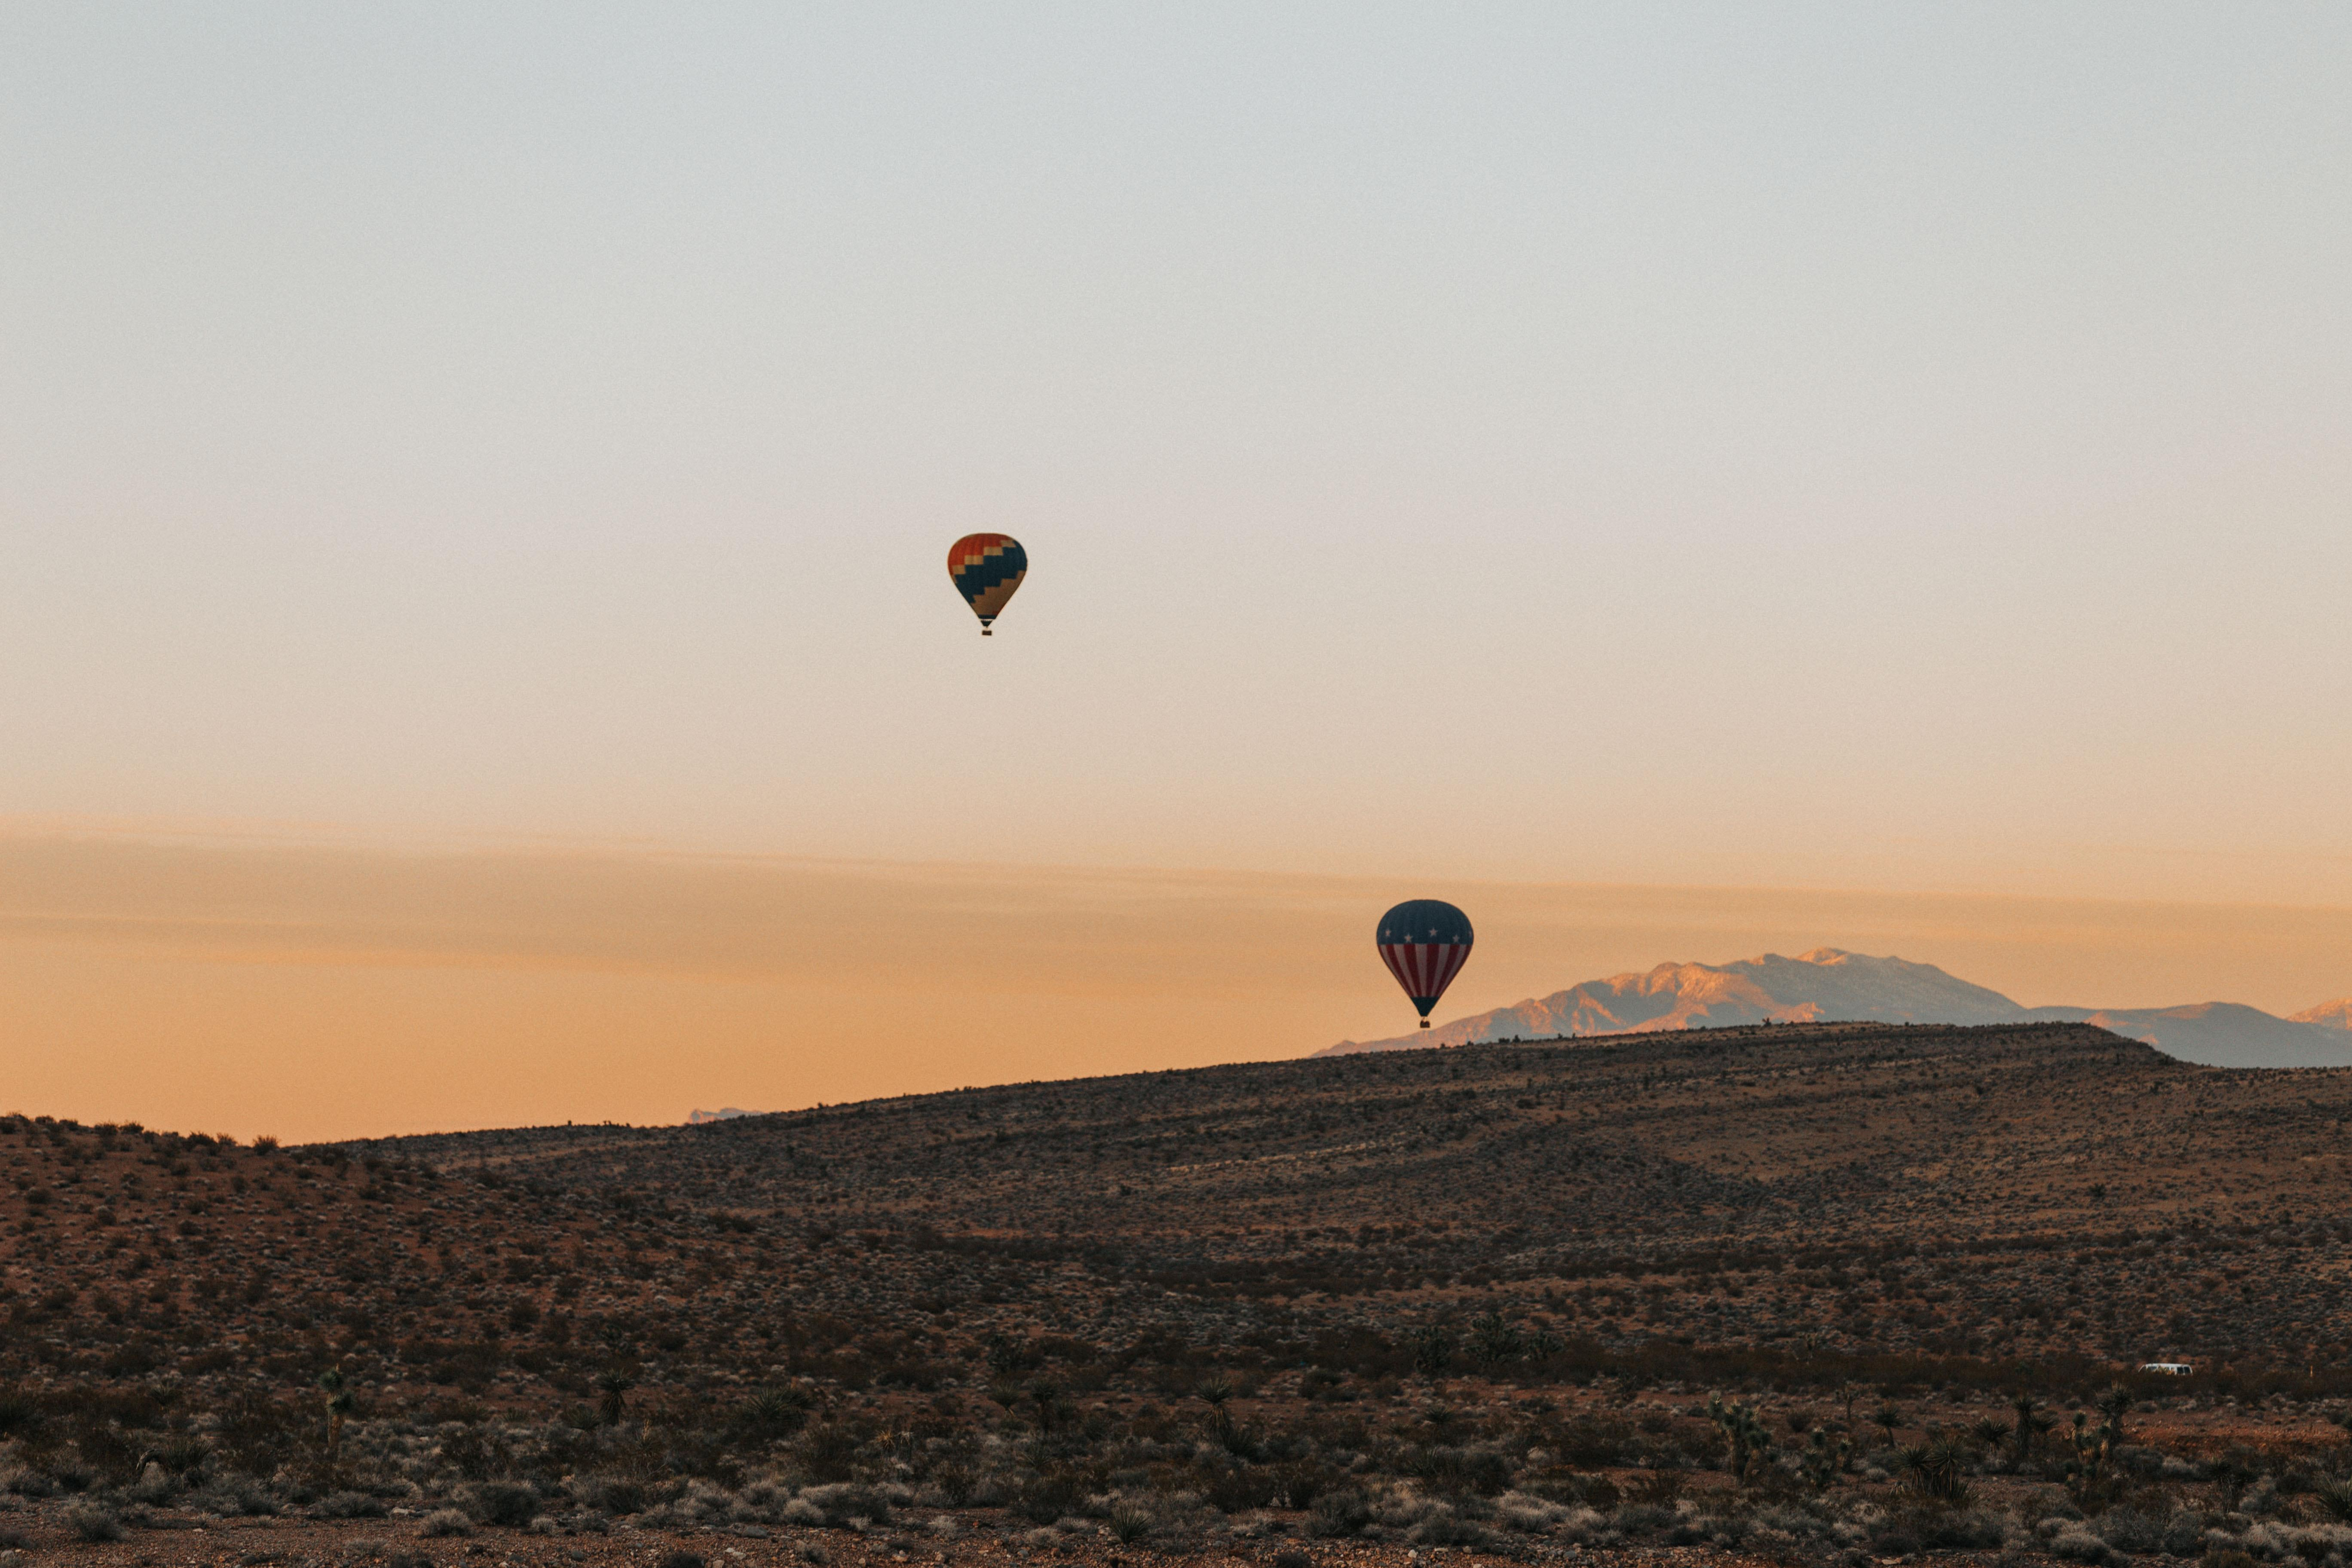hot air ballon: (1375, 899, 1475, 1027), (948, 532, 1027, 635)
